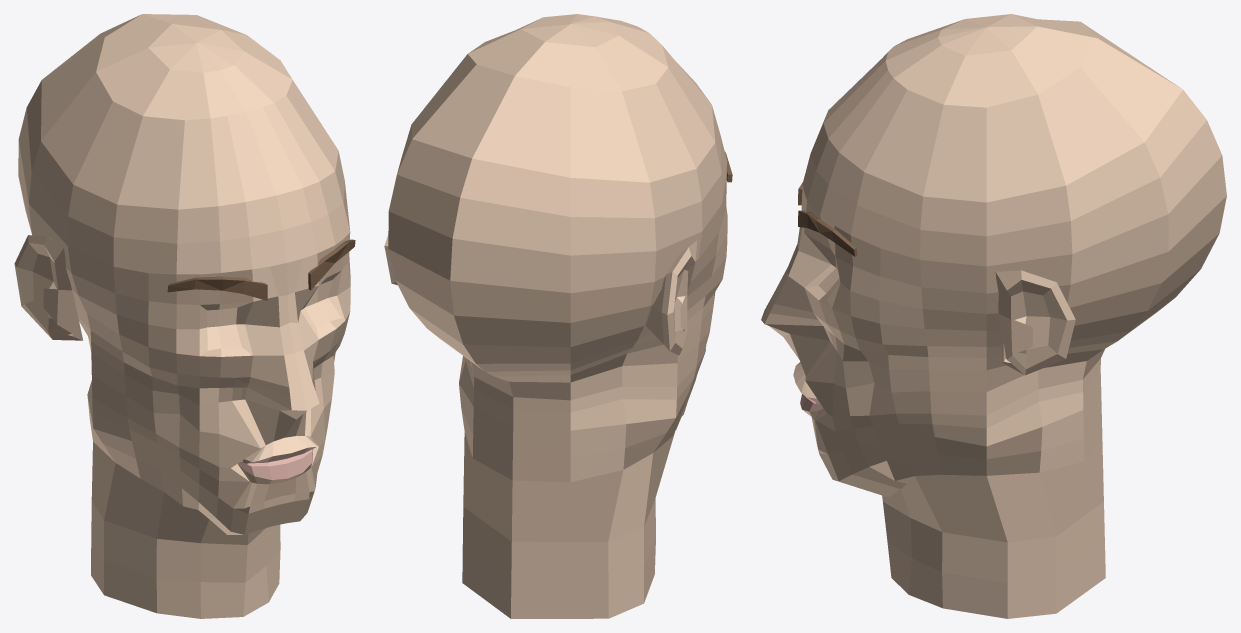
Rendered from head_nose_v1.glb.
3 renders of one model, left to right at view 1: azimuth 30°, elevation 25°; view 2: azimuth 150°, elevation 25°; view 3: azimuth 270°, elevation 25°, orthographic. The views are drawn at different scales.
Visible parts, largest first — view 1: Head_Main, Ears, Eyebrow_R, Eyebrow_L; view 2: Head_Main, Ears; view 3: Head_Main, Ears, Eyebrow_L.
Boxes of the visible parts, left/top/right/bottom form: Head_Main: left=18, top=14, right=350, bottom=618; Ears: left=14, top=235, right=83, bottom=340; Eyebrow_R: left=167, top=276, right=267, bottom=300; Eyebrow_L: left=308, top=239, right=355, bottom=290; Head_Main: left=388, top=14, right=727, bottom=618; Ears: left=384, top=235, right=697, bottom=355; Head_Main: left=761, top=14, right=1226, bottom=618; Ears: left=995, top=270, right=1075, bottom=375; Eyebrow_L: left=798, top=210, right=857, bottom=256.
Size of the model in its own units: 0.1568 by 0.2886 by 0.2209.
